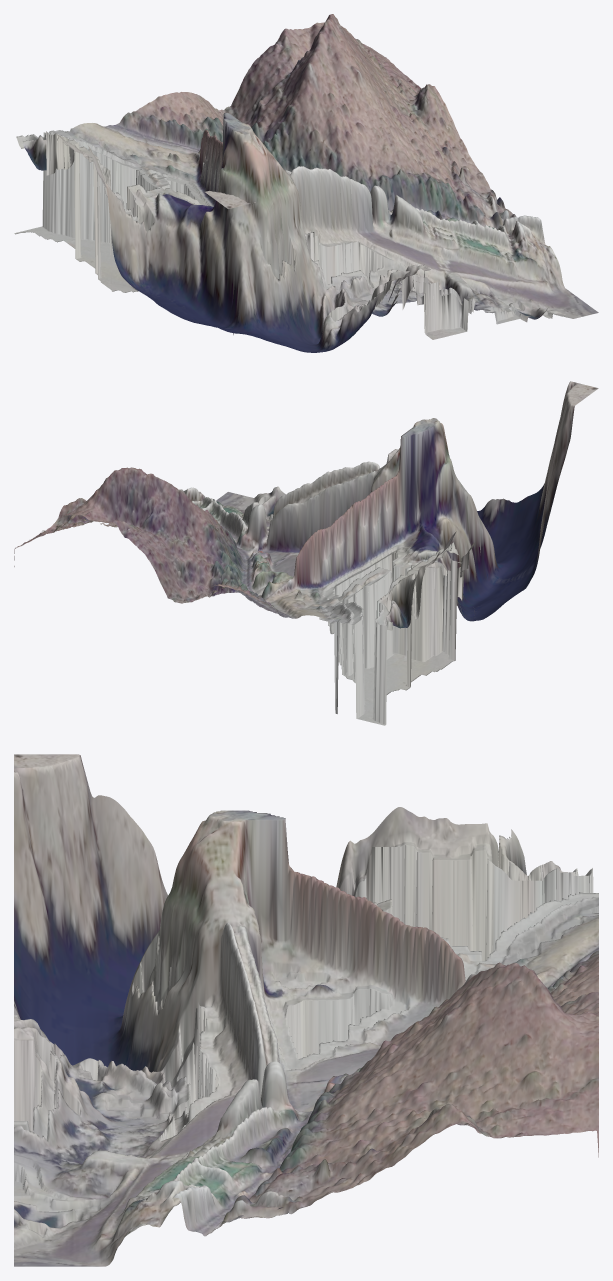
File: dsm_deb60269e9_mesh.glb
3 renders of one model, top to bottom at view 1: azimuth 30°, elevation 25°; view 2: azimuth 150°, elevation 25°; view 3: azimuth 270°, elevation 25°, orthographic. The views are drawn at different scales.
Parts seen in each view (by area): view 1: geometry_0; view 2: geometry_0; view 3: geometry_0.
Part boxes in pixels (left/top/right/bottom): geometry_0: left=14, top=14, right=598, bottom=352; geometry_0: left=14, top=381, right=598, bottom=725; geometry_0: left=14, top=754, right=598, bottom=1266.
Size of the model in its own units: 2 by 1 by 2.
